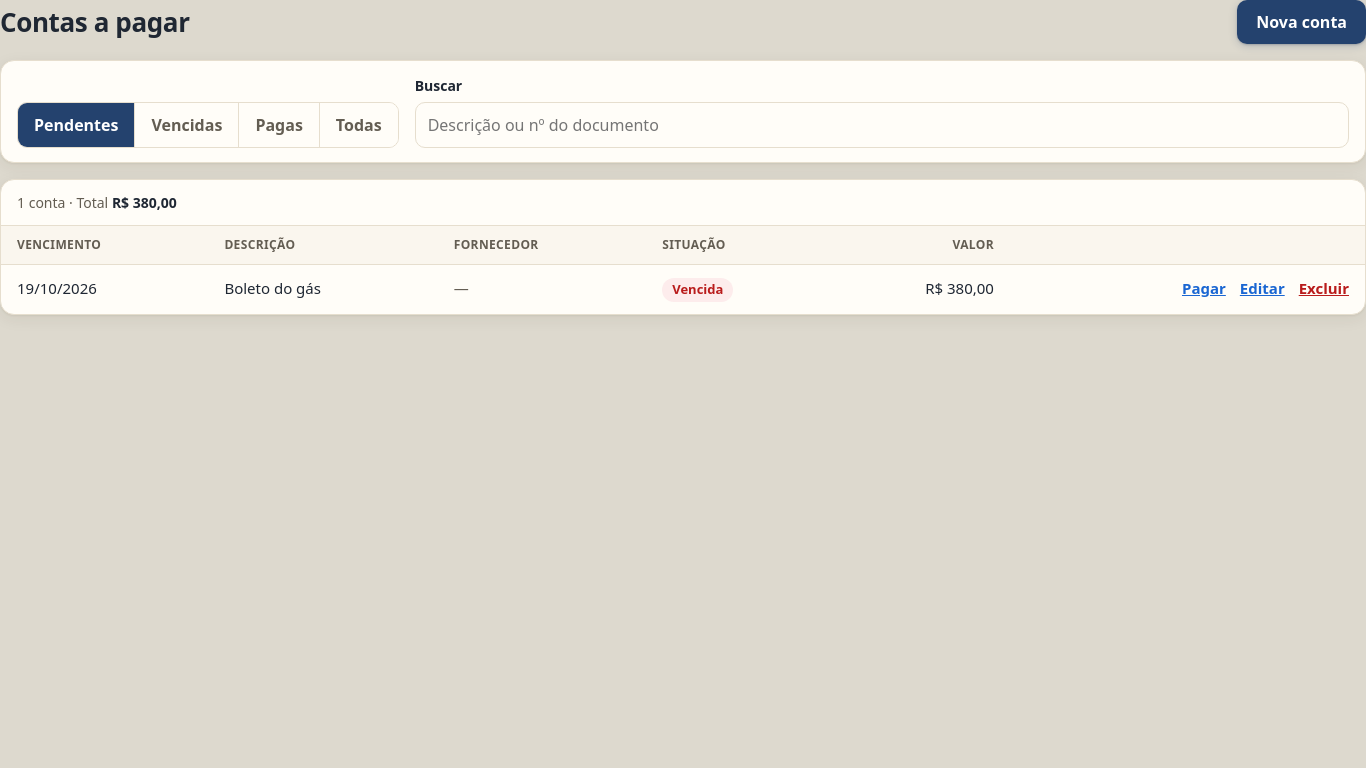
Test: Contas a pagar › não deixa confirmar o pagamento com a data vazia
This screenshot has width=1366, height=768.
Click the button with aria-label "Pagar Boleto do gás" at [1204, 288], box [1182,277,1226,300]
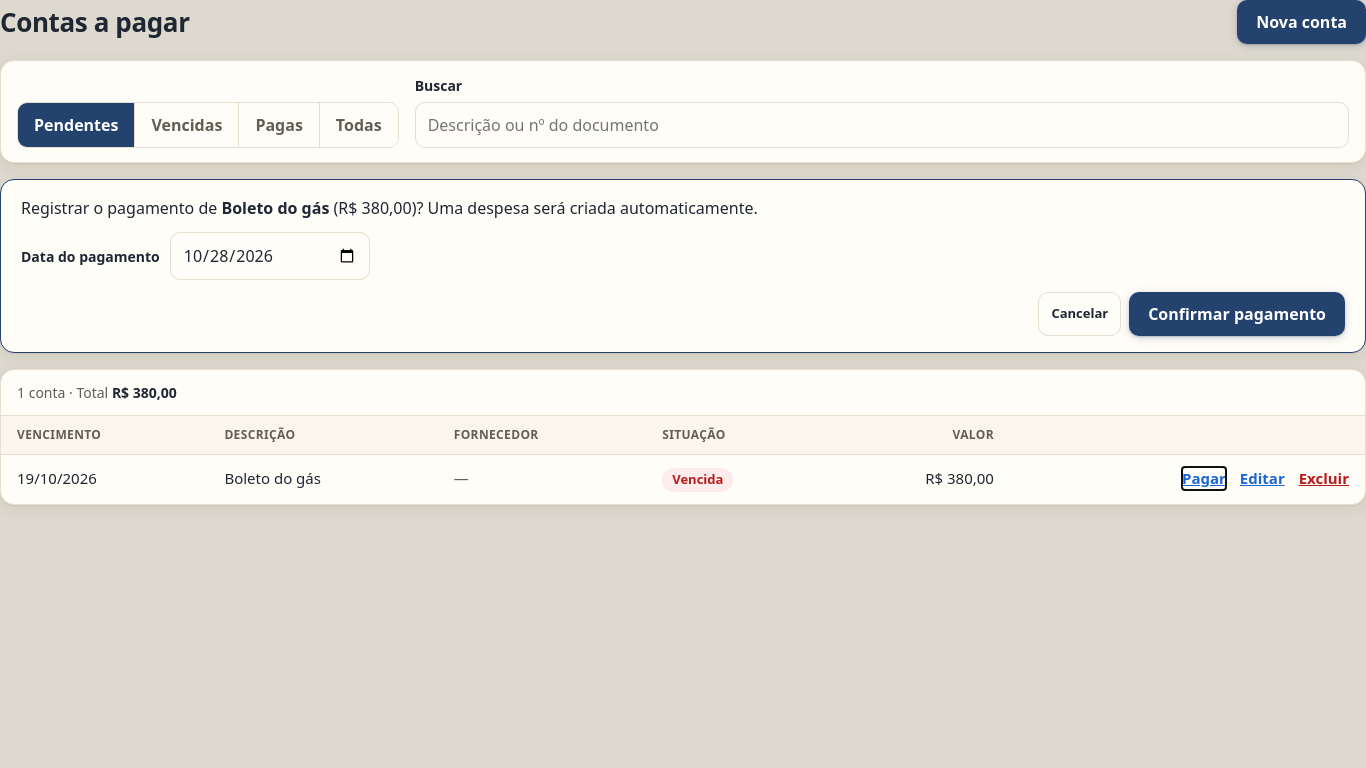
Clear the date field labelled "Data do pagamento" at [270, 256], box [170,232,370,280]
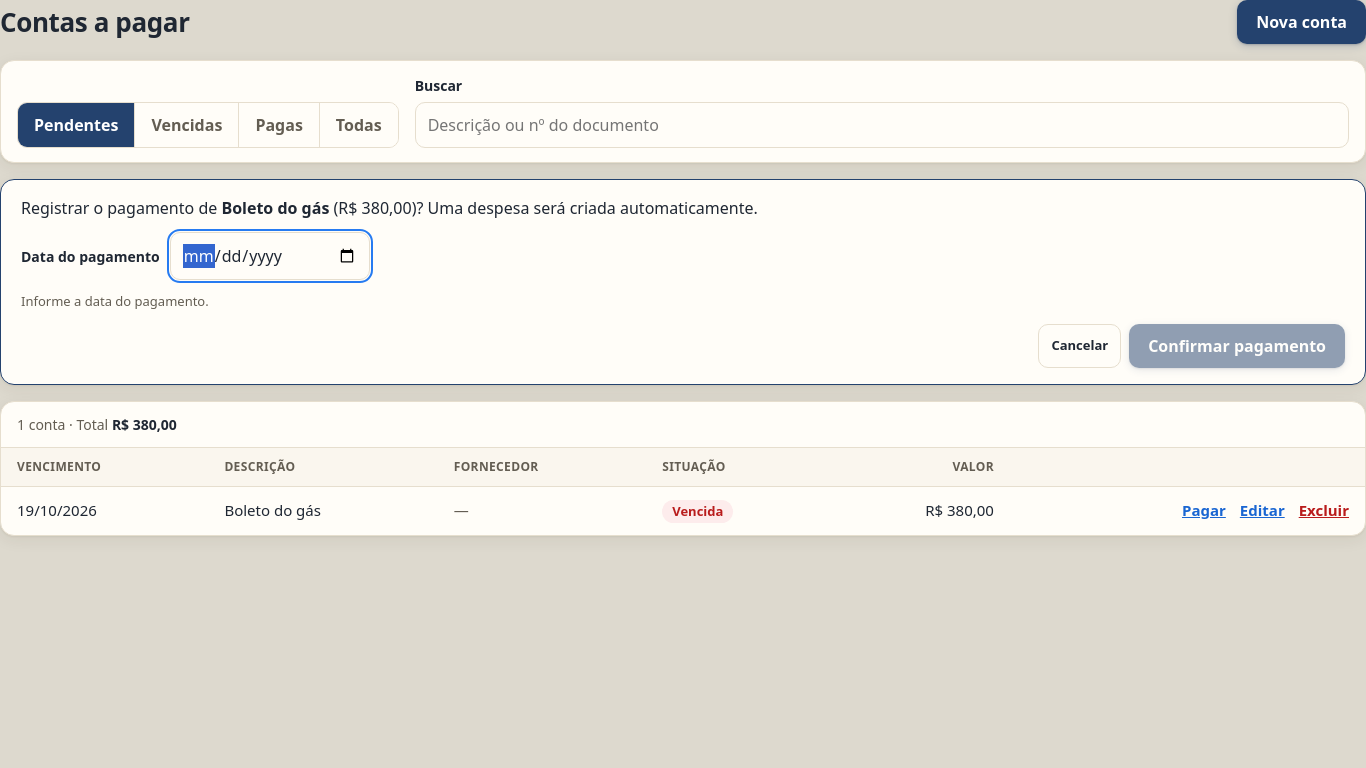
Check: the button "Confirmar pagamento" is disabled, box [1129,324,1345,368]
Check: the dialog named "Confirmar pagamento" shows "Informe a data do pagamento.", box [21,292,209,310]
